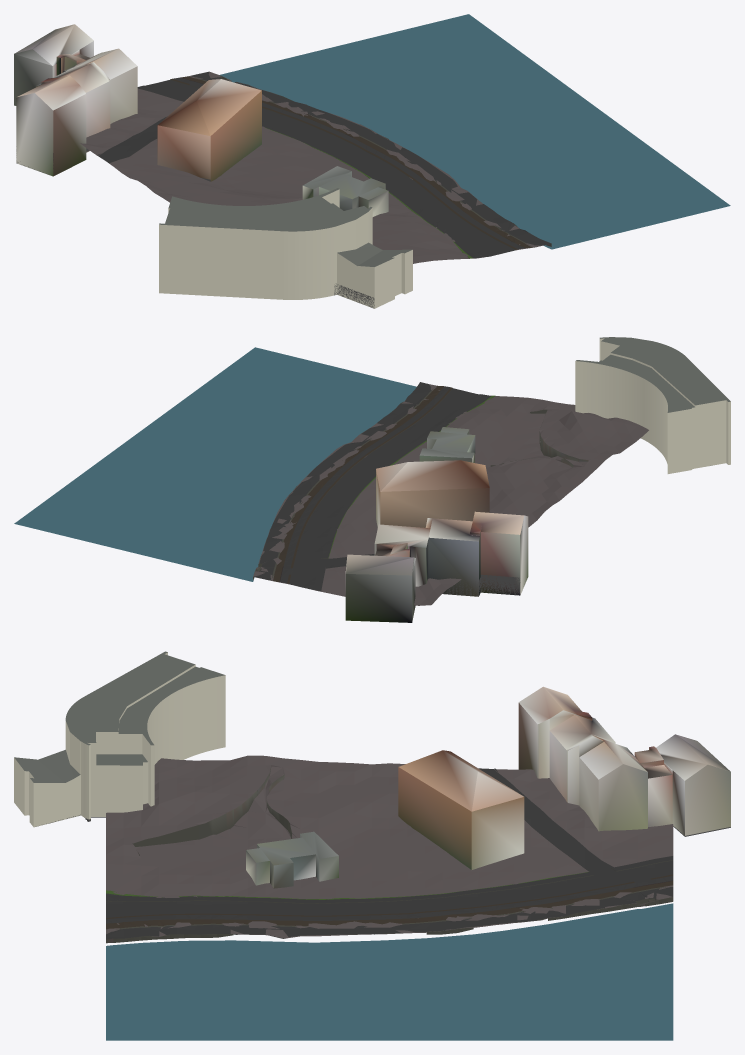
3 views of the same model, one above another, from view 1: azimuth 30°, elevation 25°; view 2: azimuth 150°, elevation 25°; view 3: azimuth 270°, elevation 25° (orthographic). The views are drawn at different scales.
Parts seen in each view (by area): view 1: c_p04_p10; view 2: c_p04_p10; view 3: c_p04_p10.
Boxes of the visible parts, x1,y1,x2,y2 form: c_p04_p10: (14,14,730,308); c_p04_p10: (14,337,730,622); c_p04_p10: (14,651,730,1040).
Bounding box in the file's own units: 154 × 25.3 × 162.
